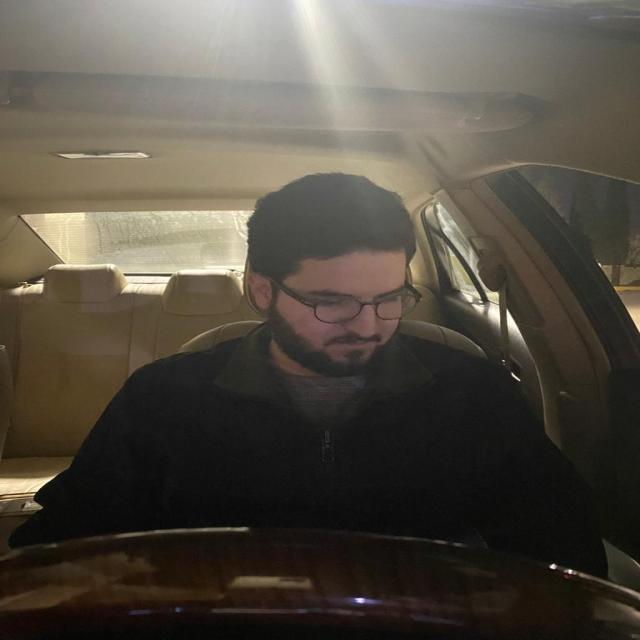person: (241, 174, 426, 376)
